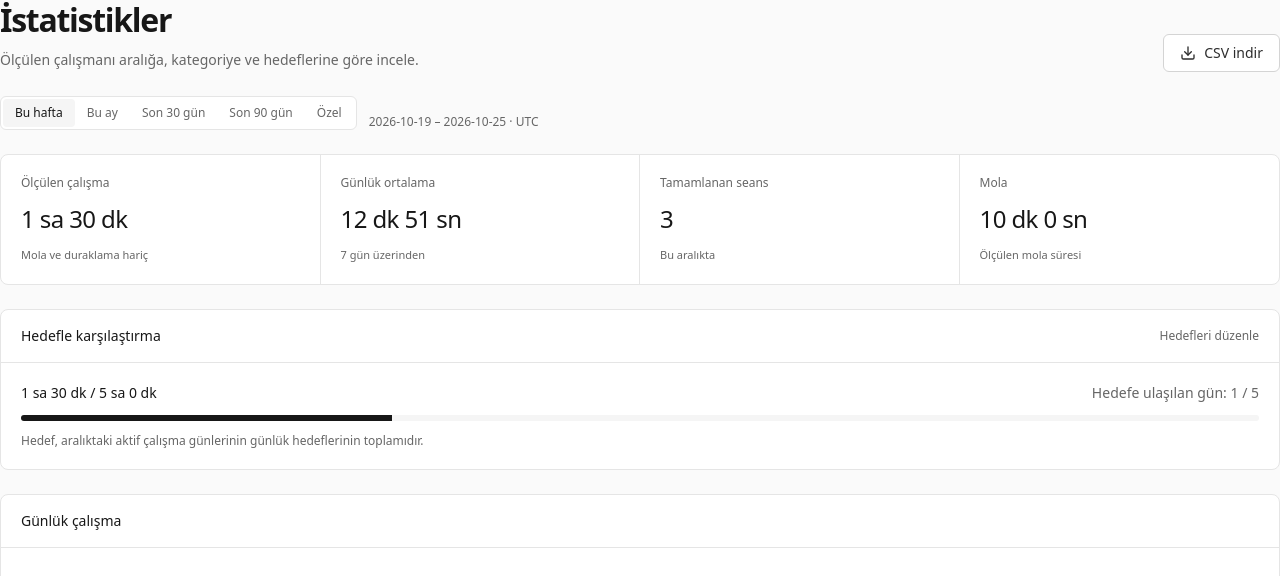
Test: shows range totals, goal comparison and course/category distribution, and refetches on range change
Expected: the text "1 sa 30 dk" is shown, [21, 202, 128, 235]
Expected: the text "Hedefe ulaşılan gün: 1 / 5" is shown, [1092, 382, 1259, 402]
Click the button "Bu ay".
click(102, 113)  # box [75, 99, 130, 127]
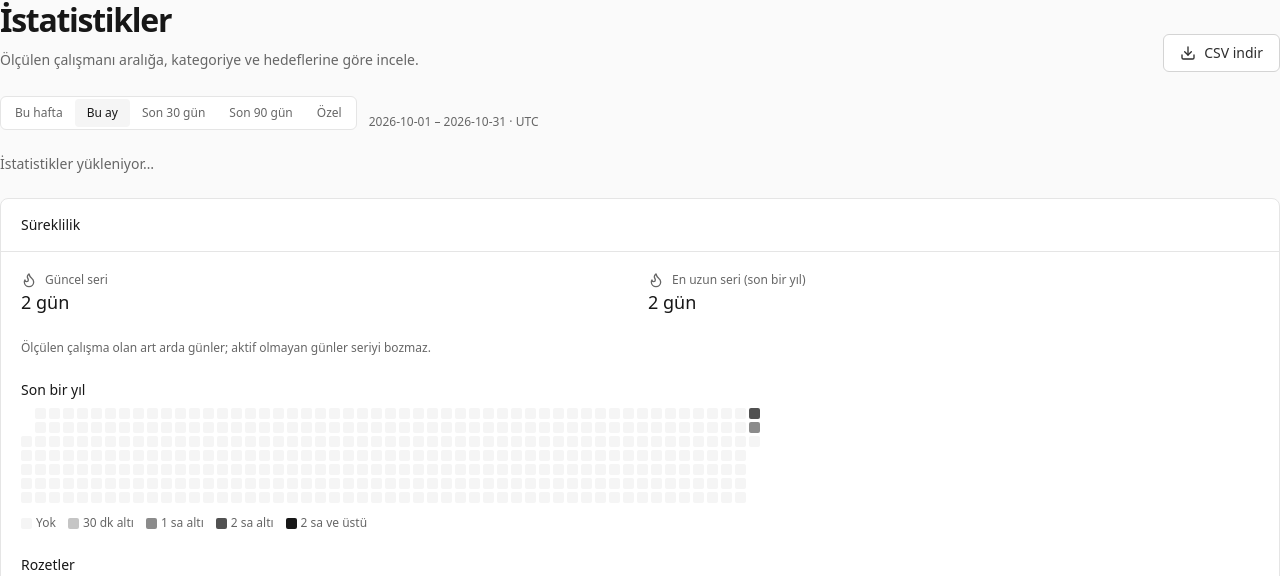
Click the button "Özel".
click(329, 113)  # box [305, 99, 354, 127]
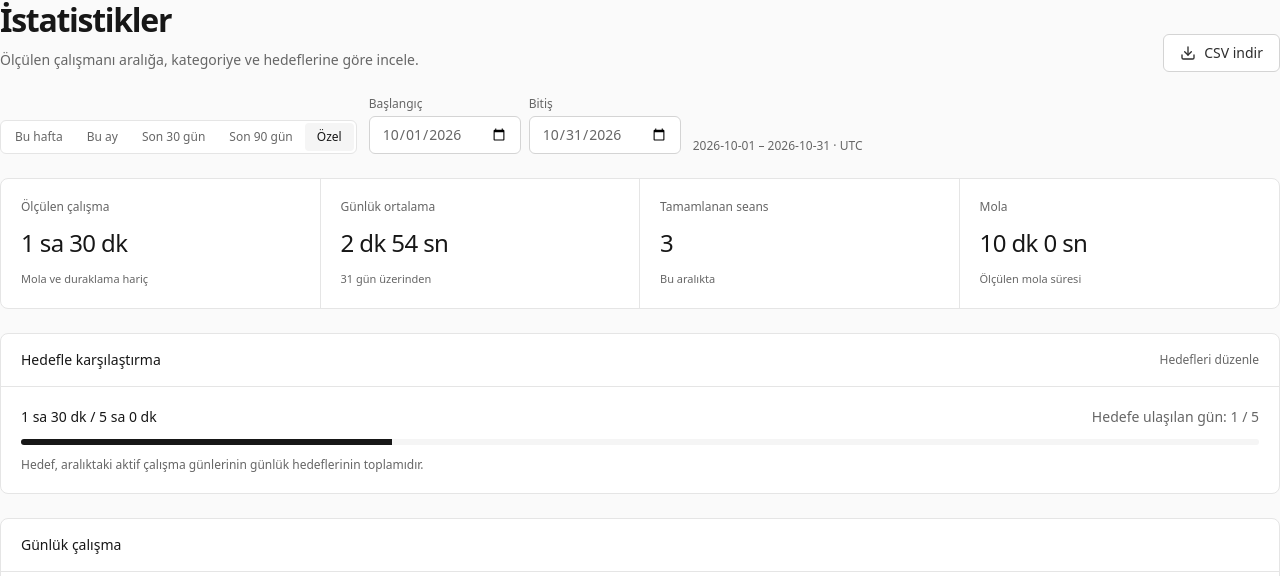
Type "2026-11-01" into the date field labelled "Başlangıç".
click(445, 135); type("2026-11-01")  # box [369, 116, 521, 154]
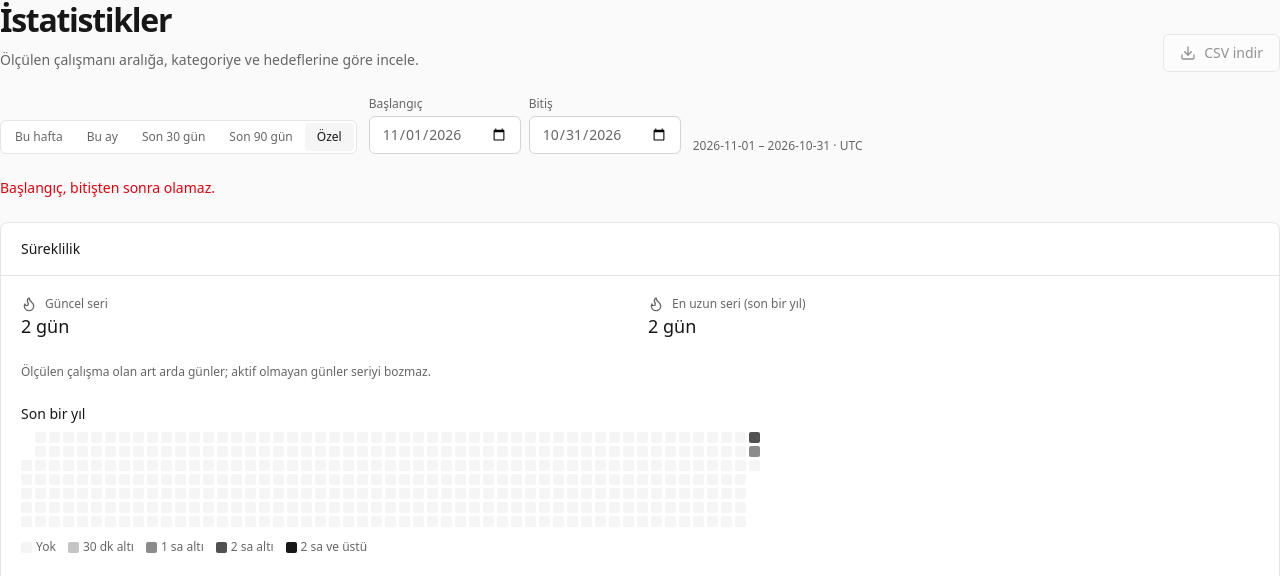
Now the message shows "Başlangıç, bitişten sonra olamaz", box [0, 178, 215, 197]
